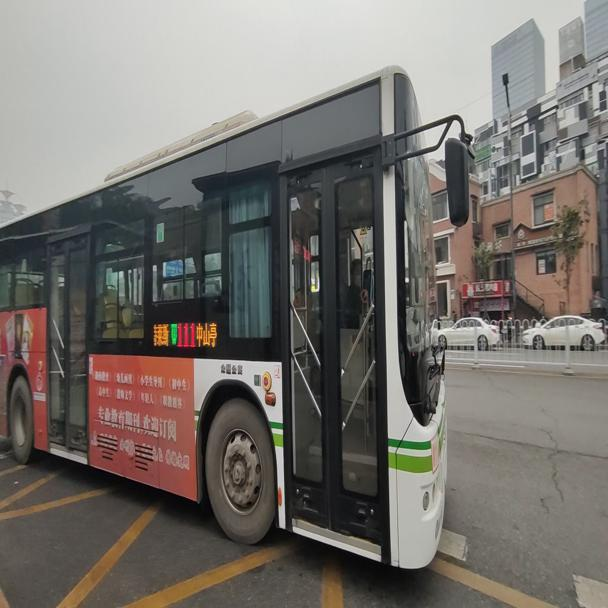bus: (0, 63, 469, 576)
screen: (176, 319, 196, 351)
